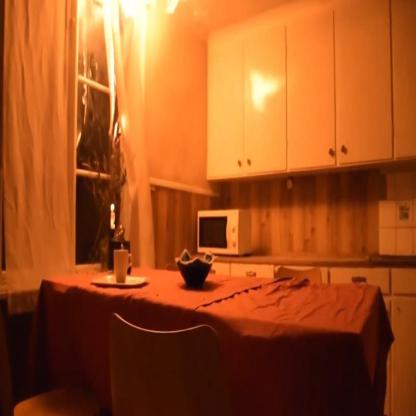fire: (72, 0, 188, 103), (110, 198, 115, 213)
